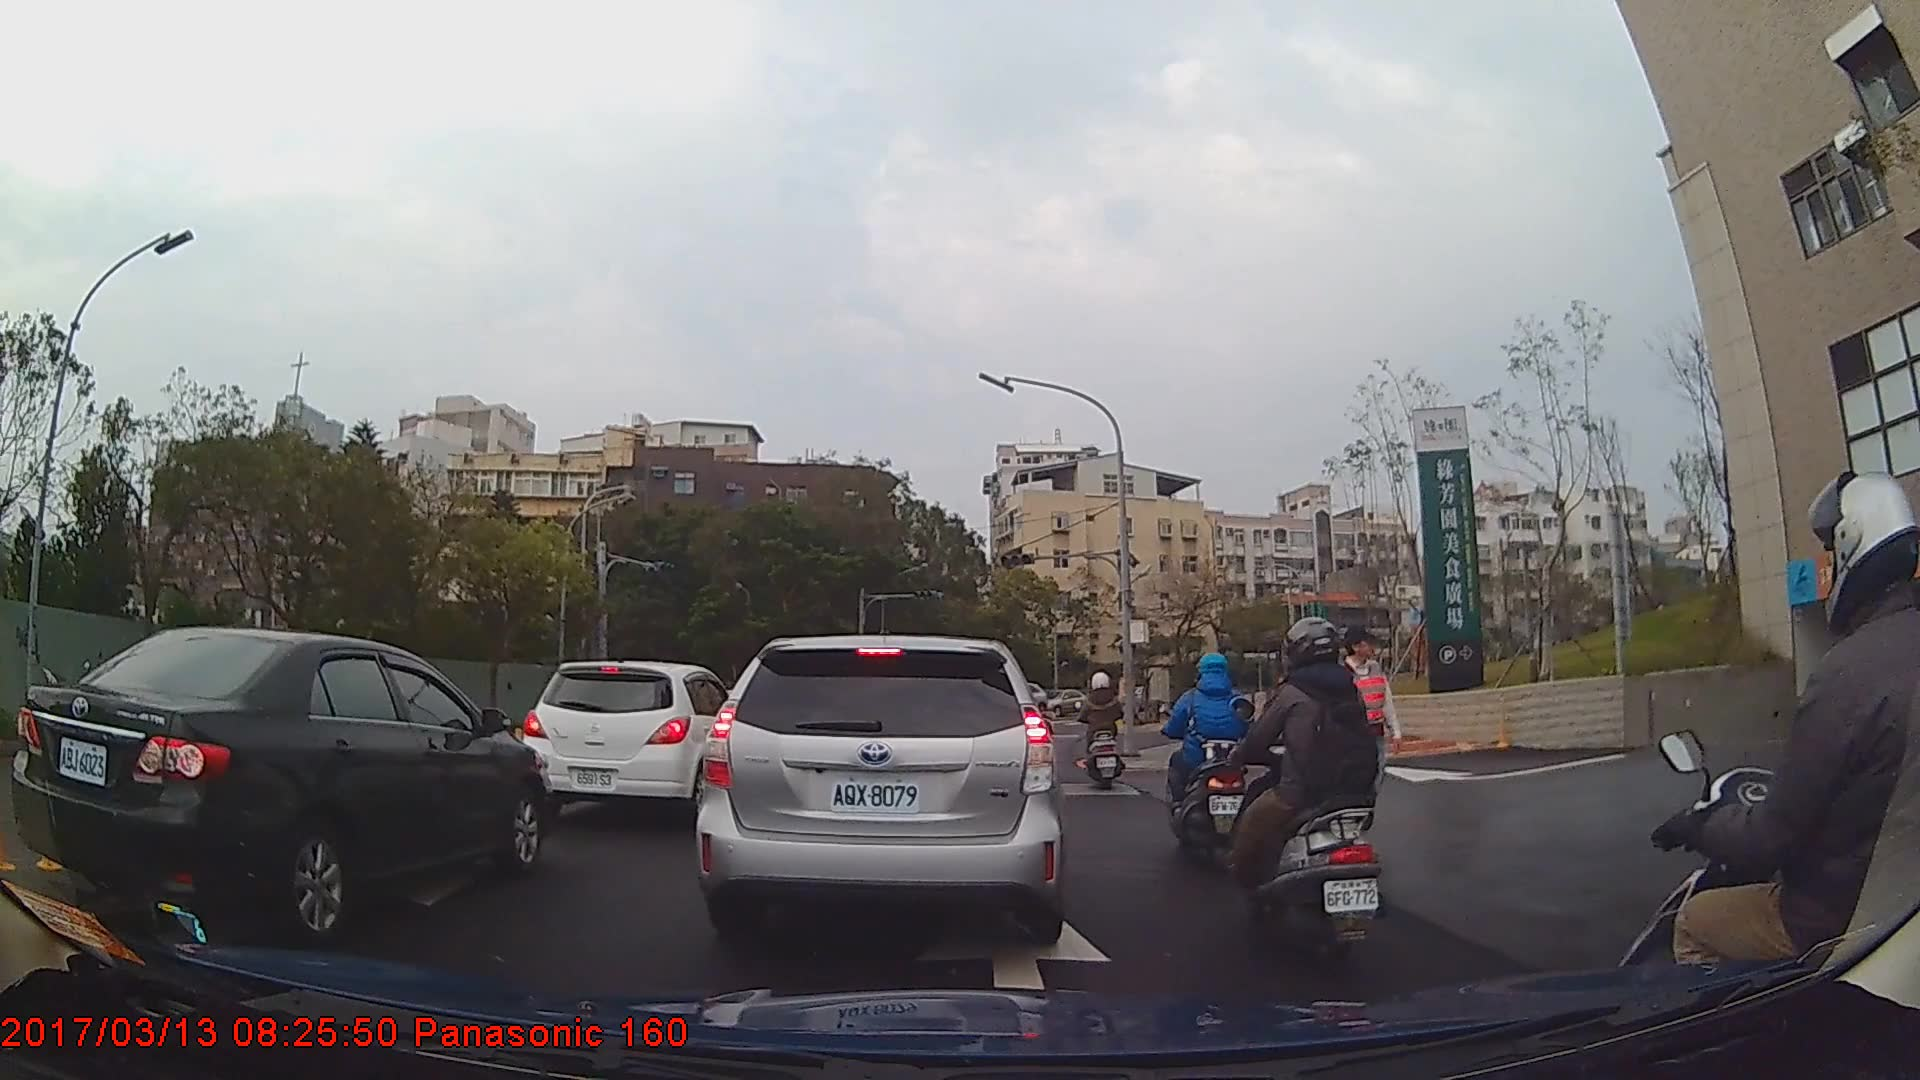pedestrian: (1325, 618, 1405, 862)
rider: (1604, 463, 1920, 1080), (1224, 613, 1392, 976), (1162, 650, 1253, 866), (1075, 670, 1127, 790)
vehicle: (19, 622, 550, 943), (694, 632, 1067, 949), (517, 659, 738, 825), (1047, 687, 1087, 716)
